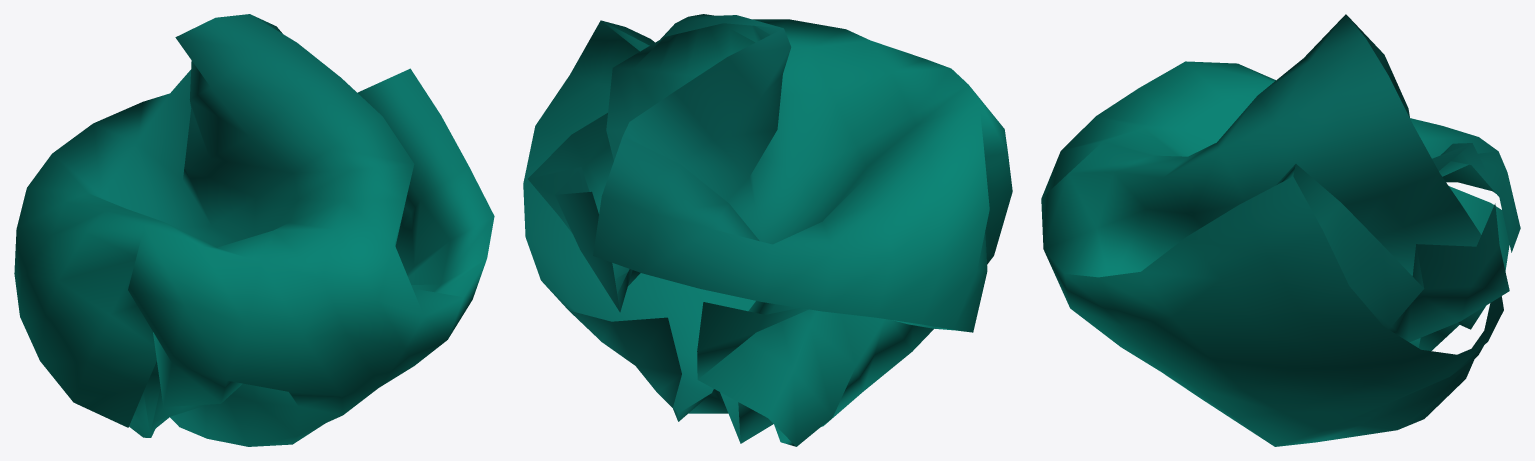
File: CrumpledNapkin002.glb
The picture shows the model from 3 angles, left to right: view 1: azimuth 30°, elevation 25°; view 2: azimuth 150°, elevation 25°; view 3: azimuth 270°, elevation 25°; orthographic projection.
Visible parts, largest first — view 1: CrumpledNapkin002; view 2: CrumpledNapkin002; view 3: CrumpledNapkin002.
Part boxes in pixels (left/top/right/bottom): CrumpledNapkin002: left=14, top=14, right=494, bottom=446; CrumpledNapkin002: left=523, top=14, right=1012, bottom=446; CrumpledNapkin002: left=1041, top=14, right=1520, bottom=446.
Size of the model in its own units: 0.487 by 0.4583 by 0.5028.
